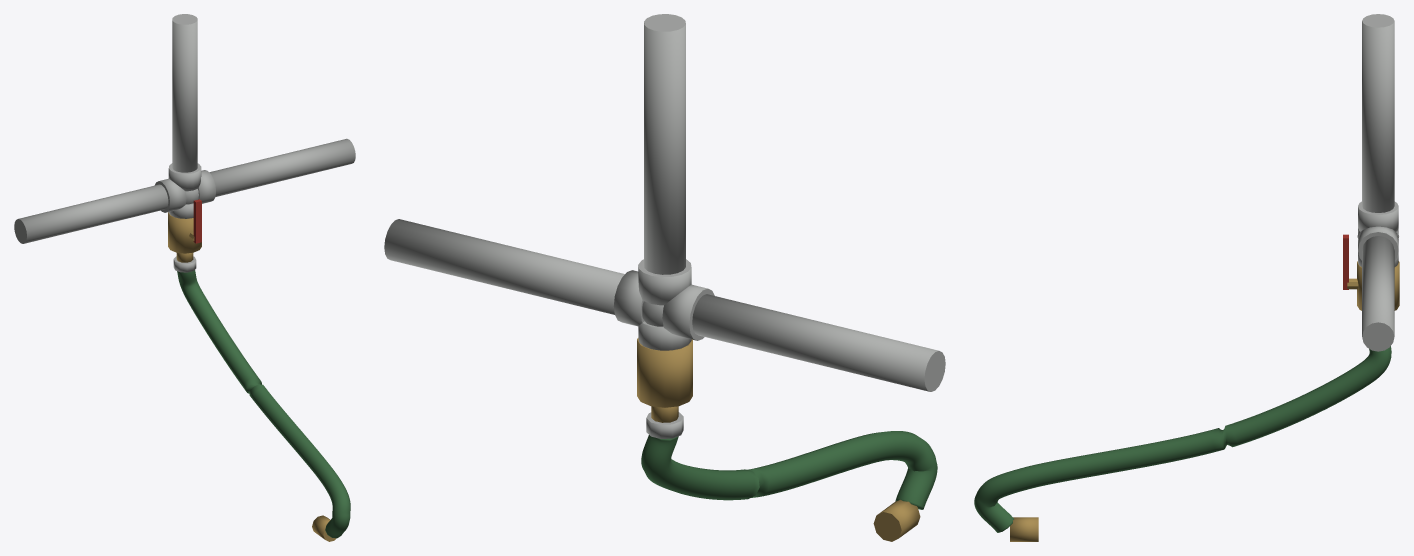
File: barrel_fill_cross.obj
3 renders of one model, left to right at view 1: azimuth 30°, elevation 25°; view 2: azimuth 150°, elevation 25°; view 3: azimuth 270°, elevation 25°, orthographic. The views are drawn at different scales.
Parts seen in each view (by area): view 1: hose, pipe4, pipe8, pipe2, valve_body, elbow_socket4, elbow_socket8, elbow_socket2; view 2: pipe8, pipe4, hose, pipe2, valve_body, elbow_socket8, elbow_socket4, nozzle, elbow_socket2, elbow_socket1, hose_collar; view 3: hose, pipe4, pipe2, elbow_socket4, nozzle, elbow_socket2.
Boxes of the visible parts, x1,y1,x2,y2 form: hose: (177, 270, 350, 538); pipe4: (172, 14, 197, 172); pipe8: (14, 184, 168, 243); pipe2: (209, 138, 355, 196); valve_body: (168, 212, 201, 253); elbow_socket4: (168, 163, 201, 191); elbow_socket8: (154, 178, 186, 212); elbow_socket2: (198, 170, 215, 203); pipe8: (692, 294, 945, 391); pipe4: (644, 14, 685, 274); hose: (641, 431, 937, 509); pipe2: (384, 219, 624, 314); valve_body: (637, 338, 692, 407); elbow_socket8: (662, 284, 714, 340); elbow_socket4: (638, 259, 691, 305); nozzle: (873, 499, 920, 541); elbow_socket2: (613, 270, 644, 326); elbow_socket1: (638, 321, 691, 350); hose_collar: (646, 412, 683, 438); hose: (974, 346, 1391, 532); pipe4: (1362, 14, 1394, 212); pipe2: (1362, 236, 1394, 351); elbow_socket4: (1358, 201, 1398, 231); nozzle: (1010, 517, 1038, 541); elbow_socket2: (1358, 226, 1398, 260).
Size of the model in its own units: 1 by 1.2 by 0.8942.
Materials: 4 (4 with a texture image).
